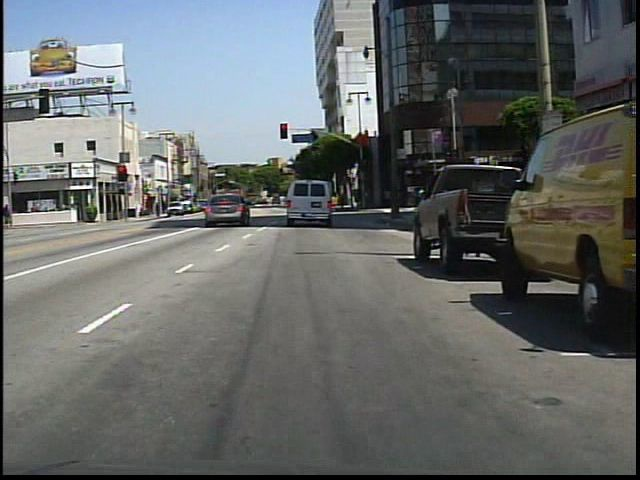person: (298, 186, 317, 222), (240, 193, 254, 218), (5, 202, 17, 230)
